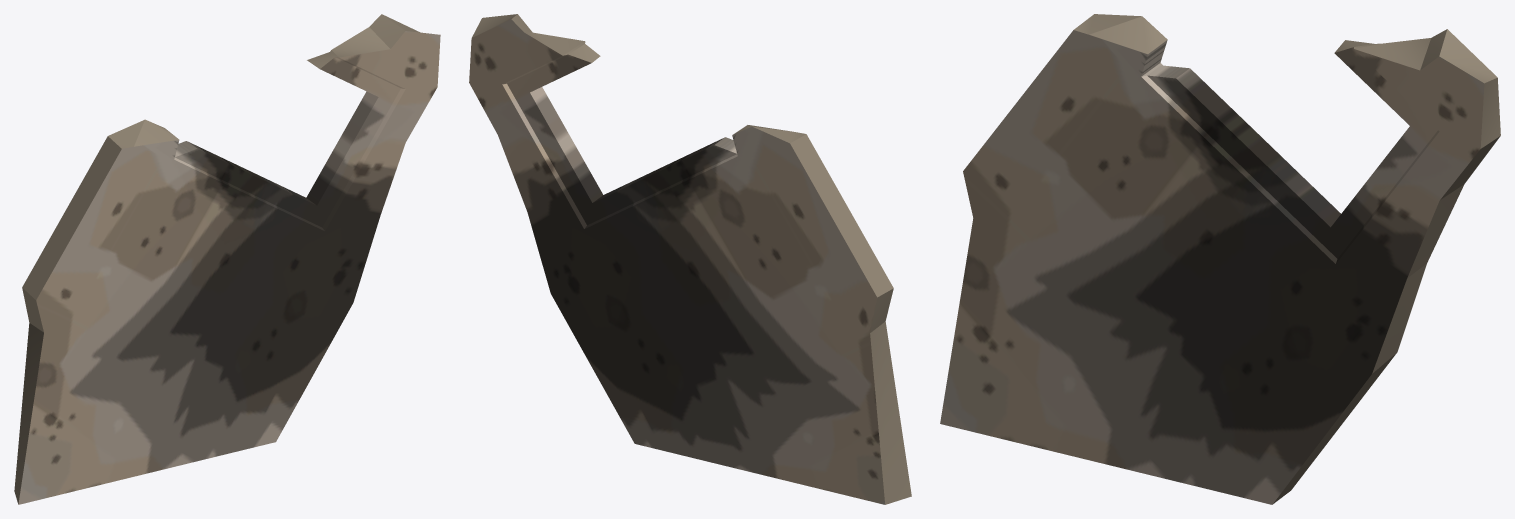
File: SM_Bld_Village_06_Destroyed.glb
3 views of the same model, side by side, from view 1: azimuth 30°, elevation 25°; view 2: azimuth 150°, elevation 25°; view 3: azimuth 330°, elevation 25° (orthographic). The views are drawn at different scales.
Visible parts, largest first — view 1: SM_Bld_Village_06_Destroyed; view 2: SM_Bld_Village_06_Destroyed; view 3: SM_Bld_Village_06_Destroyed.
Part boxes in pixels (x1,y1,x2,y2): SM_Bld_Village_06_Destroyed: [14, 14, 440, 504]; SM_Bld_Village_06_Destroyed: [469, 14, 911, 504]; SM_Bld_Village_06_Destroyed: [940, 14, 1500, 504].
Size of the model in its own units: 4.03 by 3.54 by 0.25.
1 material, 1 textured.
